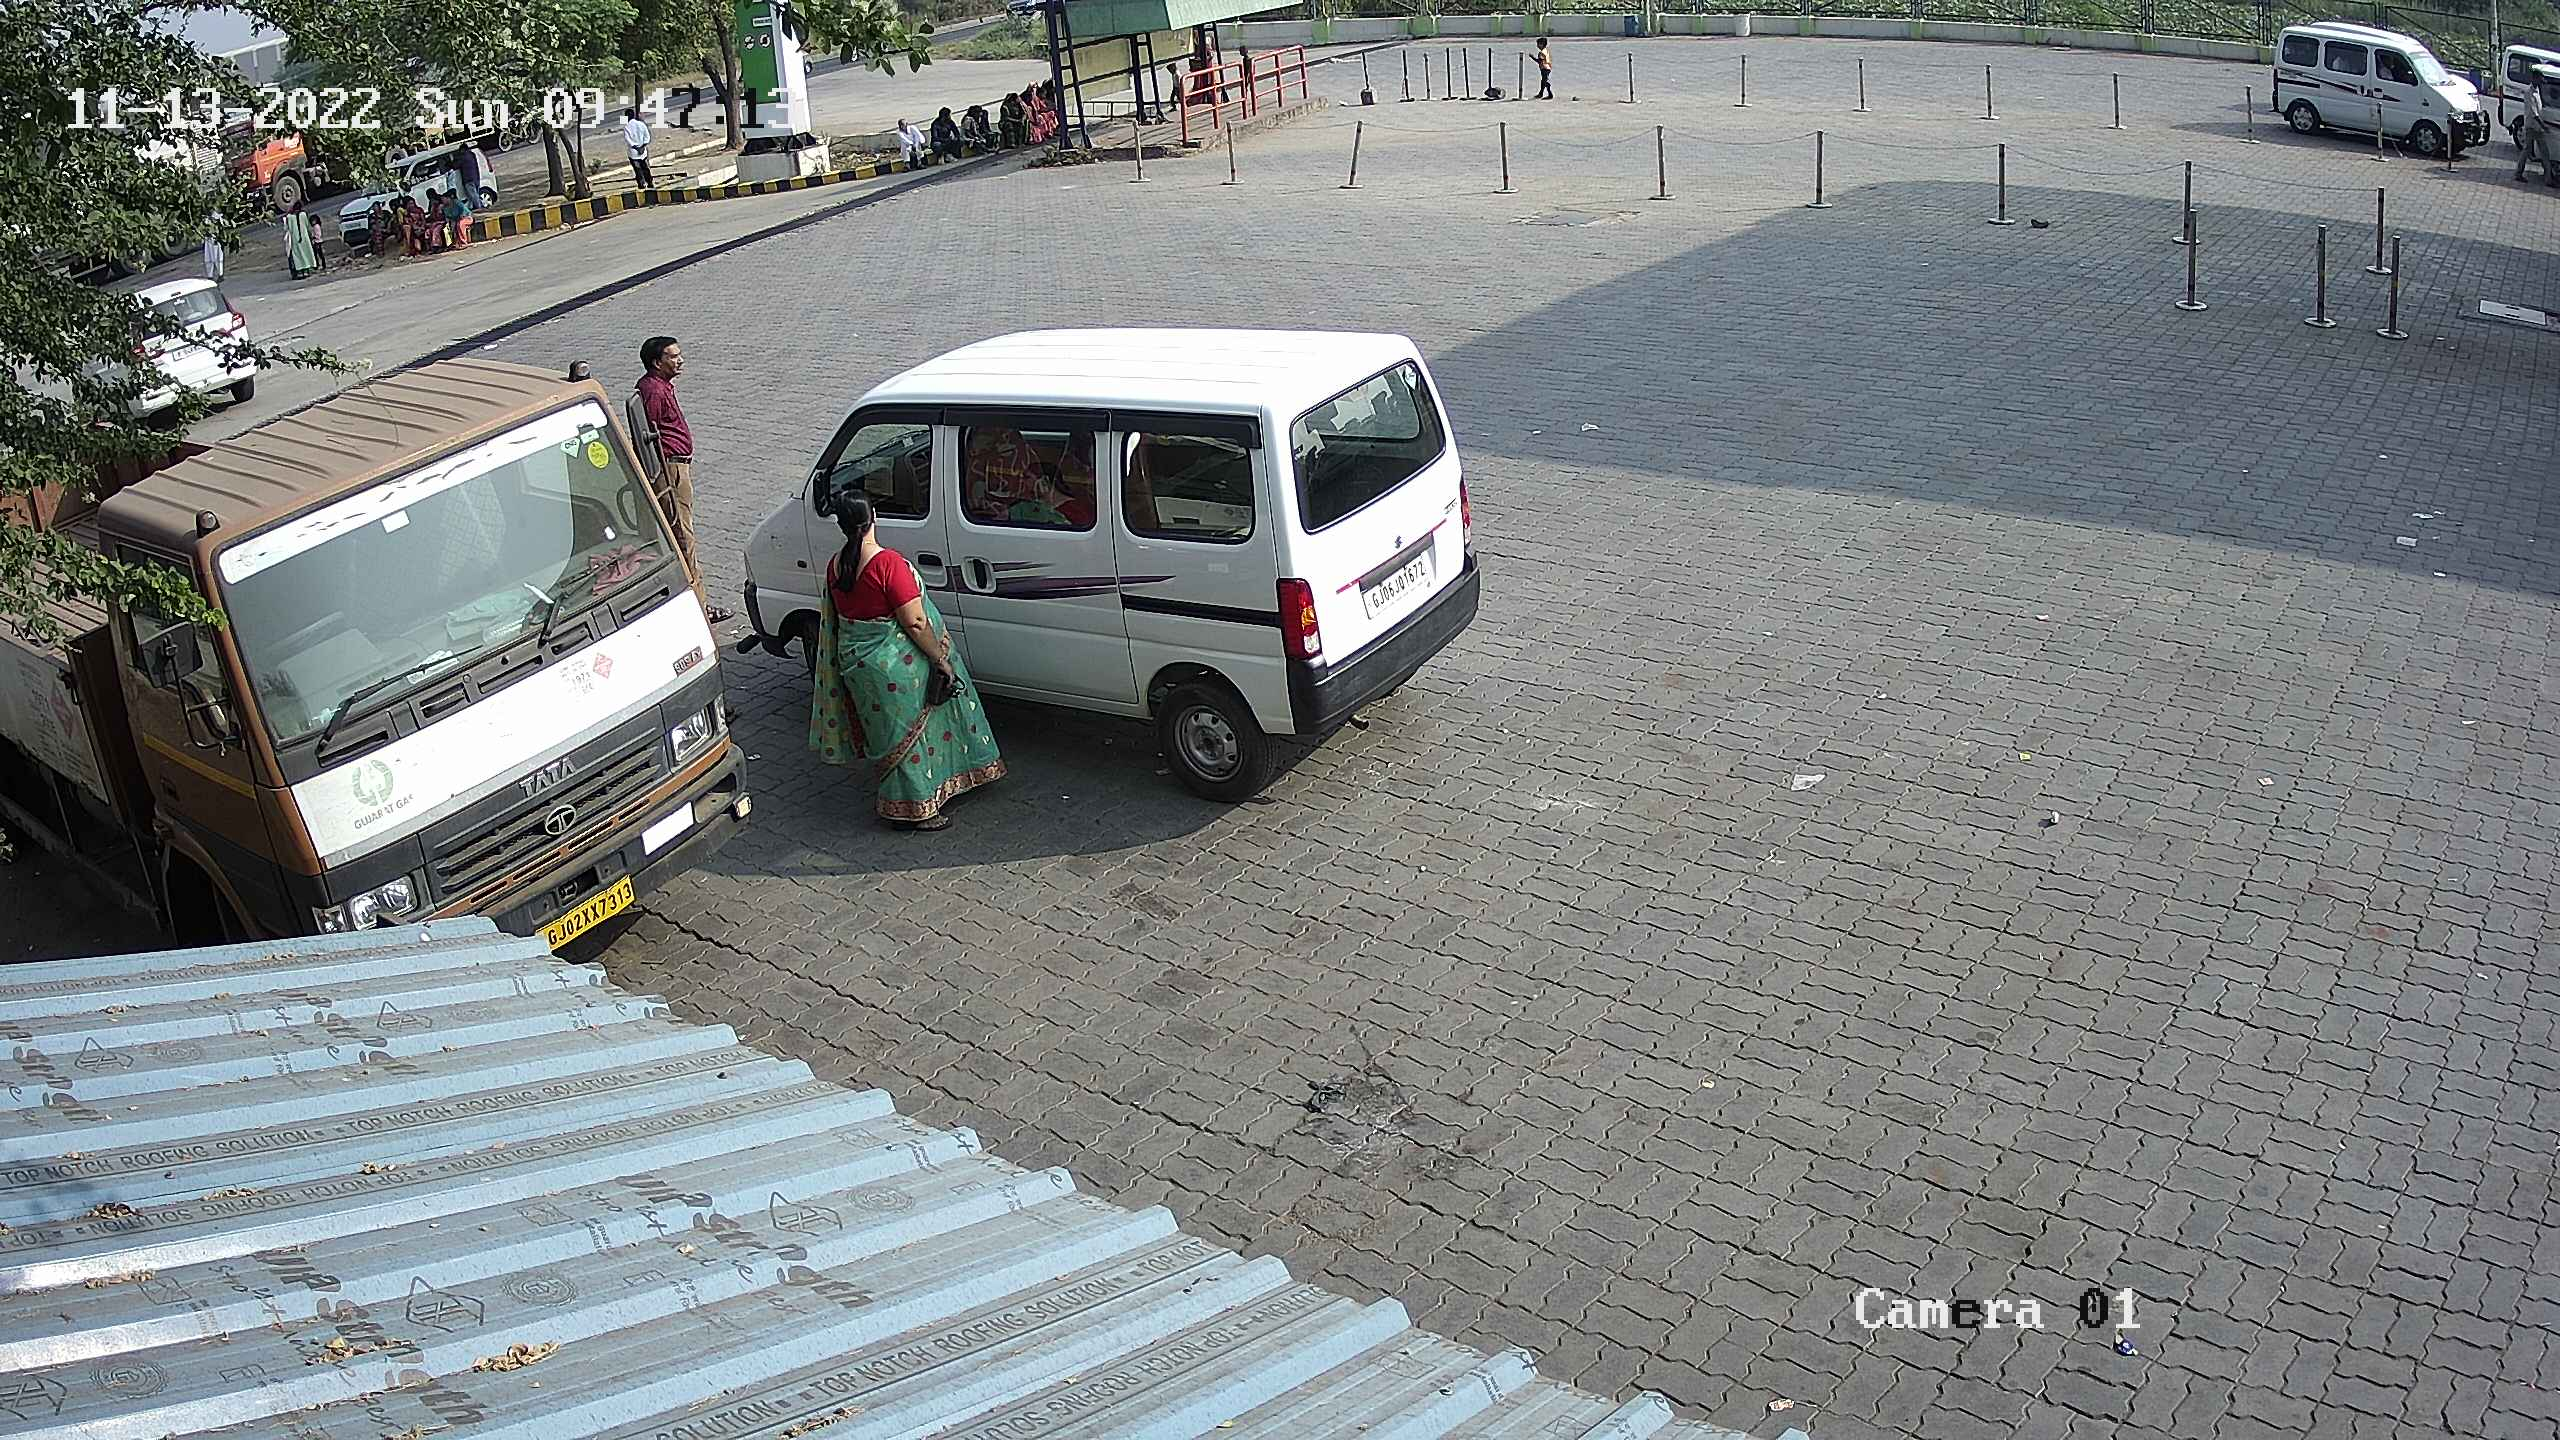Car: (730, 315, 1487, 812), (46, 264, 262, 438), (2268, 18, 2490, 162), (324, 125, 506, 255), (2307, 12, 2484, 102), (2484, 32, 2556, 156), (2521, 60, 2558, 197)
HMV: (2, 353, 760, 965)
